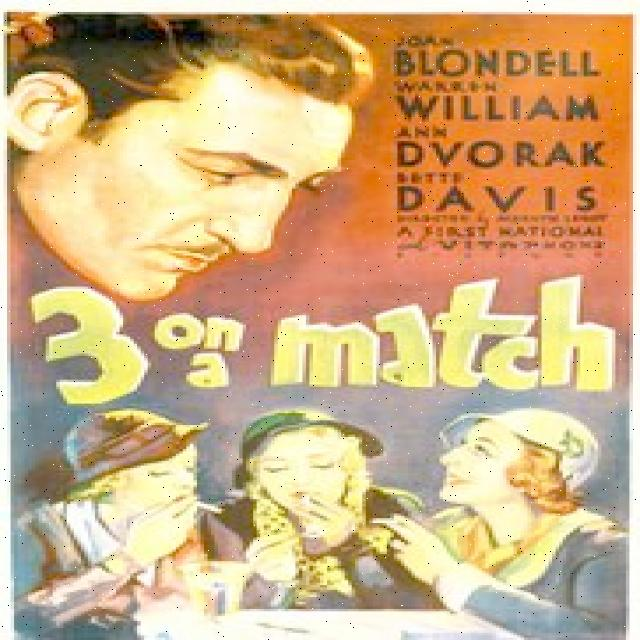movie-judul: (13, 282, 640, 402)
picture: (13, 407, 628, 639), (7, 11, 371, 277)
